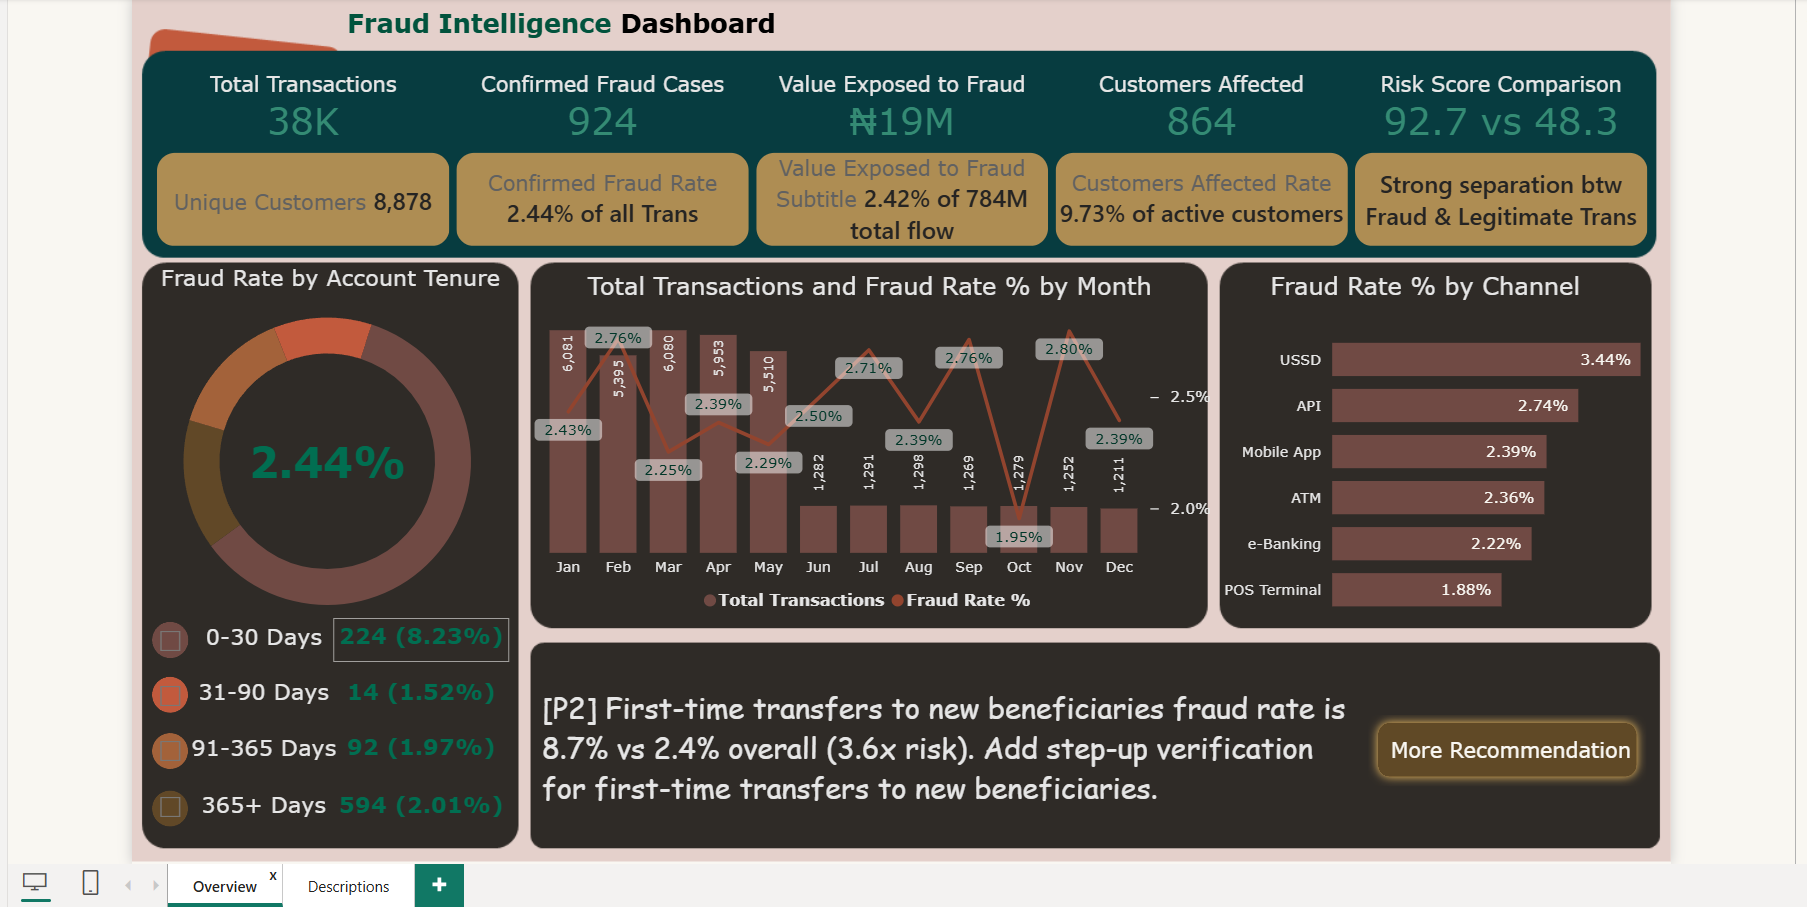

This screenshot's page, from the dashboard's own definition file:
{"tool":"powerbi","page":{"name":"Overview","canvas":[1280,720],"ordinal":0},"visuals":[{"type":"cardVisual","fields":{"Data":["_Measures.Total Transactions","_Measures.Confirmed Fraud Cases","_Measures.Value Exposed to Fraud","_Measures.Customers Affected","_Measures.Avg Risk Score"]},"box":[20.4,51.5,1239.3,155.8],"z":0},{"type":"lineStackedColumnComboChart","fields":{"Category":["Calendar.Month Short"],"Y":["_Measures.Total Transactions"],"Y2":["_Measures.Fraud Rate %"]},"box":[330.8,222.9,565.7,292.4],"z":1000},{"type":"clusteredBarChart","fields":{"Category":["FraudTransactions.Channel Display Name"],"Y":["_Measures.Fraud Rate %"]},"box":[895.8,222.4,363.7,296.2],"z":2000},{"type":"donutChart","fields":{"Category":["FraudTransactions.Tenor Bucket"],"Y":["_Measures.Fraud Rate %"]},"box":[8.4,221.7,308,312.8],"z":3000},{"type":"textbox","box":[13.2,221.7,303.2,40.7],"z":4000},{"type":"shape","box":[17.1,519,30.3,30.3],"z":5000},{"type":"shape","box":[17.1,611.4,30,30],"z":6000},{"type":"textbox","box":[45,516.6,130,36],"z":7000},{"type":"shape","box":[17.1,564.8,30,30],"z":8000},{"type":"shape","box":[17.1,658.4,30,30],"z":9000},{"type":"textbox","box":[45,562.7,130,36],"z":10000},{"type":"textbox","box":[45,608.7,130,36],"z":11000},{"type":"textbox","box":[45,655.4,130,36],"z":12000},{"type":"textbox","box":[167.1,515.9,146.5,36.4],"z":13000},{"type":"textbox","box":[167.1,561.8,146.5,36],"z":14000},{"type":"textbox","box":[167.1,608.4,146.5,36],"z":15000},{"type":"textbox","box":[167.1,655.4,146.5,36],"z":16000},{"type":"textbox","box":[340.4,572.9,671.2,100.7],"z":17000},{"type":"actionButton","box":[1028.3,594.5,231.3,61.1],"z":18000},{"type":"slicer","fields":{"Values":["FraudTransactions.Tenor Bucket"]},"box":[15.6,511.8,32.4,190.6],"z":19000},{"type":"textbox","box":[178.6,7.2,366.7,30],"z":20000}]}

Visuals, with their boxes on the page's 1280x720 design canvas (x1, y1, x2, y2). These are canvas units, not pixel positions in the 1807x907 screenshot, which may show the page scaled, cropped or inside an application window:
cardVisual - _Measures.Total Transactions x _Measures.Confirmed Fraud Cases: box(20, 52, 1260, 207)
lineStackedColumnComboChart - Calendar.Month Short x _Measures.Total Transactions: box(331, 223, 896, 515)
clusteredBarChart - FraudTransactions.Channel Display Name x _Measures.Fraud Rate %: box(896, 222, 1260, 519)
donutChart - FraudTransactions.Tenor Bucket x _Measures.Fraud Rate %: box(8, 222, 316, 534)
textbox: box(13, 222, 316, 262)
shape: box(17, 519, 47, 549)
shape: box(17, 611, 47, 641)
textbox: box(45, 517, 175, 553)
shape: box(17, 565, 47, 595)
shape: box(17, 658, 47, 688)
textbox: box(45, 563, 175, 599)
textbox: box(45, 609, 175, 645)
textbox: box(45, 655, 175, 691)
textbox: box(167, 516, 314, 552)
textbox: box(167, 562, 314, 598)
textbox: box(167, 608, 314, 644)
textbox: box(167, 655, 314, 691)
textbox: box(340, 573, 1012, 674)
actionButton: box(1028, 594, 1260, 656)
slicer - FraudTransactions.Tenor Bucket: box(16, 512, 48, 702)
textbox: box(179, 7, 545, 37)
